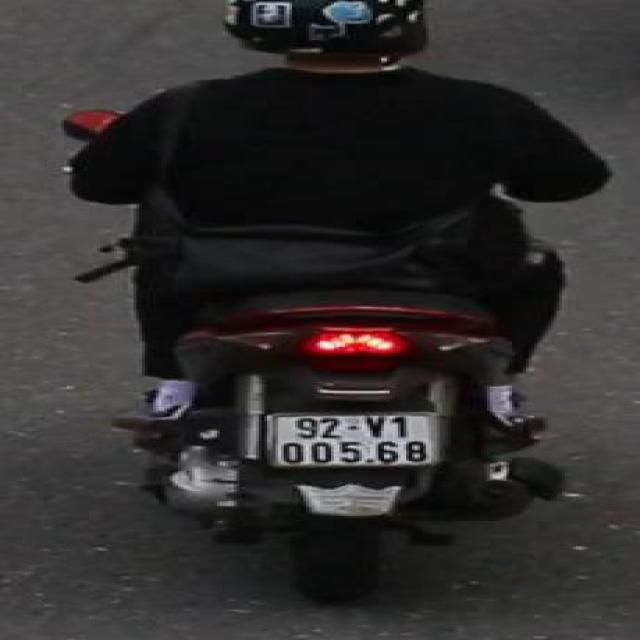LP: (262, 403, 448, 471)
